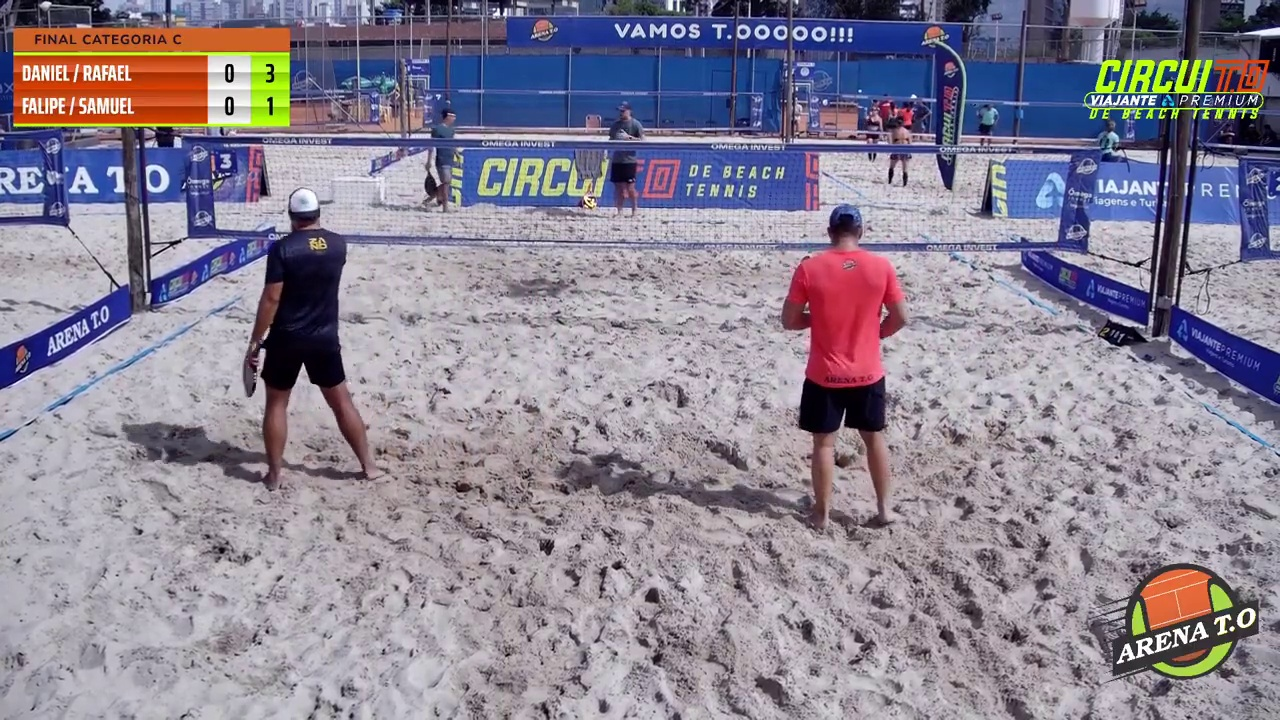court_line: (487, 0, 664, 511), (642, 0, 811, 354), (478, 0, 664, 315)
